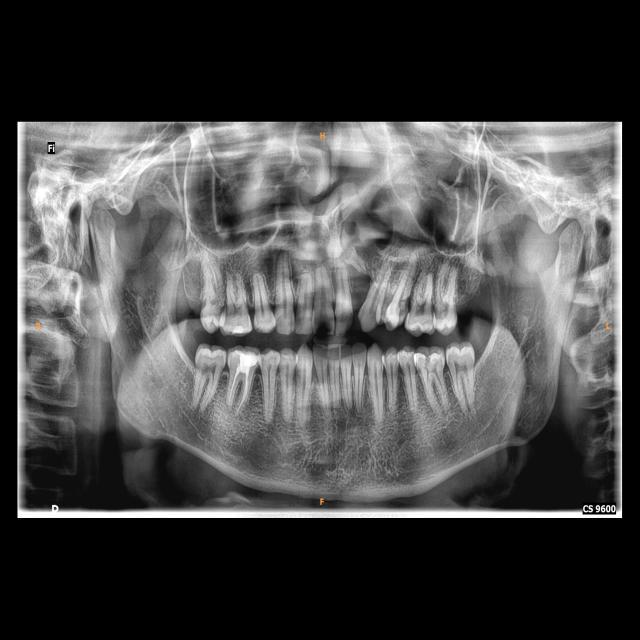dentin-curugu: (431, 299, 453, 321), (313, 313, 333, 336), (413, 297, 430, 324), (212, 298, 229, 322), (397, 300, 411, 325)
dolgu: (233, 350, 260, 374)
kanal-tedavisi: (227, 363, 253, 419)
